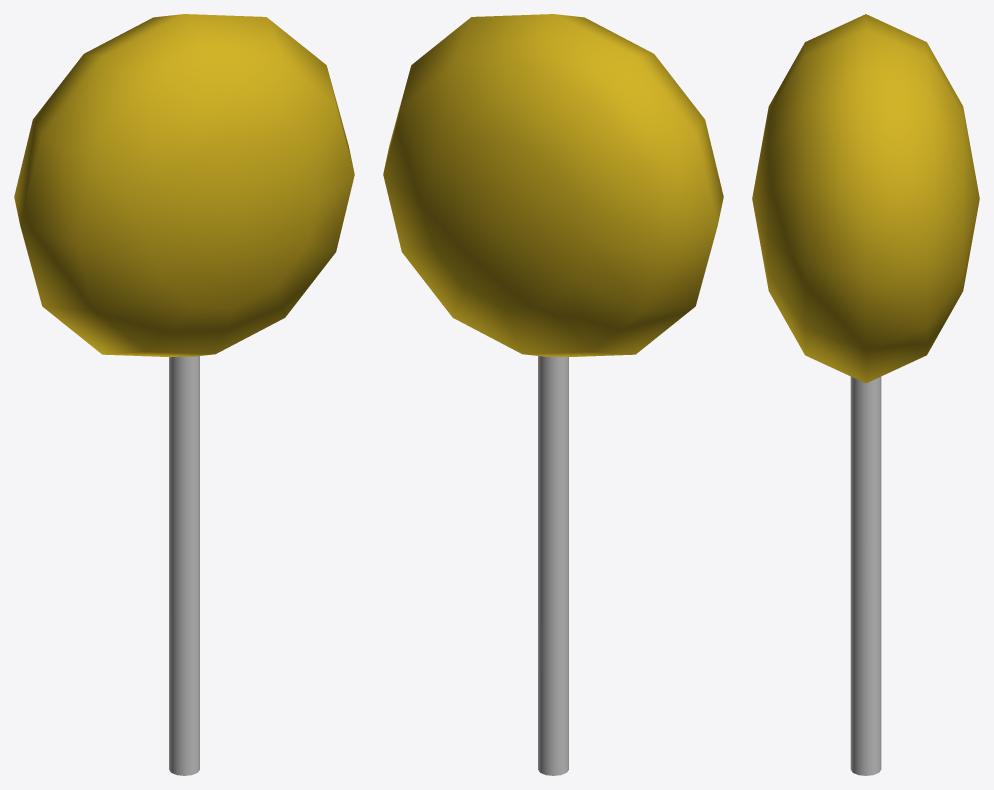
The model's file is 3D_LollyPop_Circle_Yellow.FBX.
3 renders of one model, left to right at view 1: azimuth 30°, elevation 25°; view 2: azimuth 150°, elevation 25°; view 3: azimuth 270°, elevation 25°, orthographic. The views are drawn at different scales.
Parts seen in each view (by area): view 1: 3D_LollyPop_Circle_Yellow; view 2: 3D_LollyPop_Circle_Yellow; view 3: 3D_LollyPop_Circle_Yellow.
Boxes of the visible parts, <box> form: 3D_LollyPop_Circle_Yellow: <box>14,14,354,775</box>; 3D_LollyPop_Circle_Yellow: <box>383,14,723,775</box>; 3D_LollyPop_Circle_Yellow: <box>752,14,979,775</box>.
Size of the model in its own units: 29.66 by 65.19 by 18.21.
